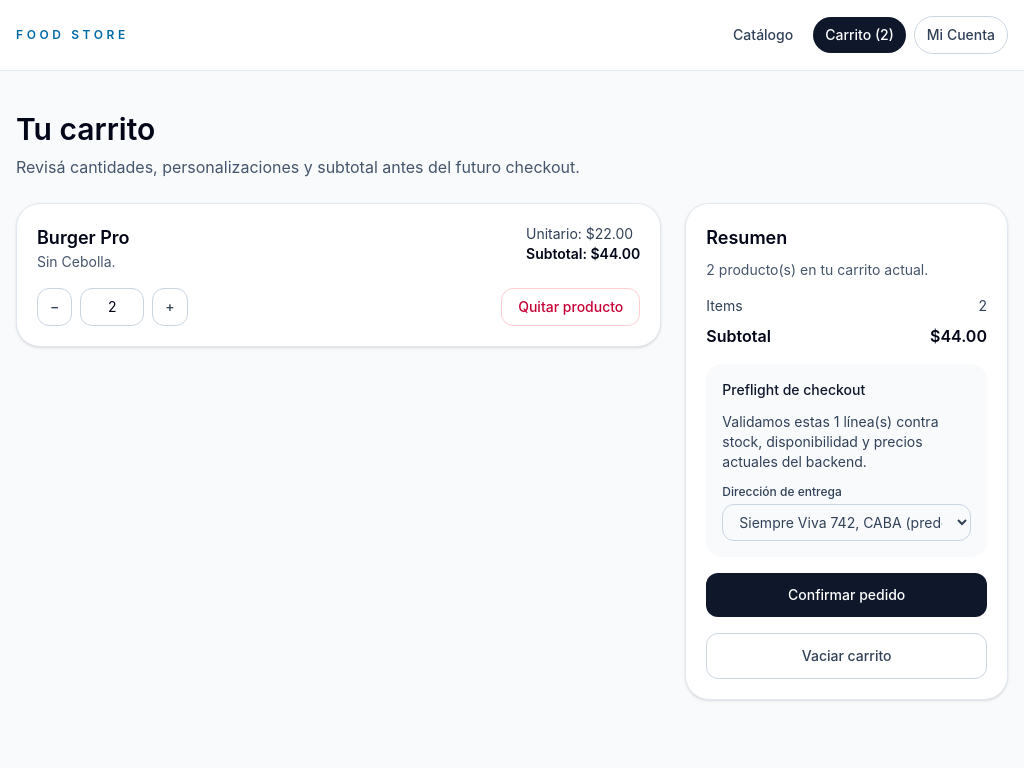
Test: CartPage › creates the order, initializes payment and confirms redirect feedback for authenticated users
Click the button "Confirmar pedido". click: (847, 595)
box: [706,573,987,617]
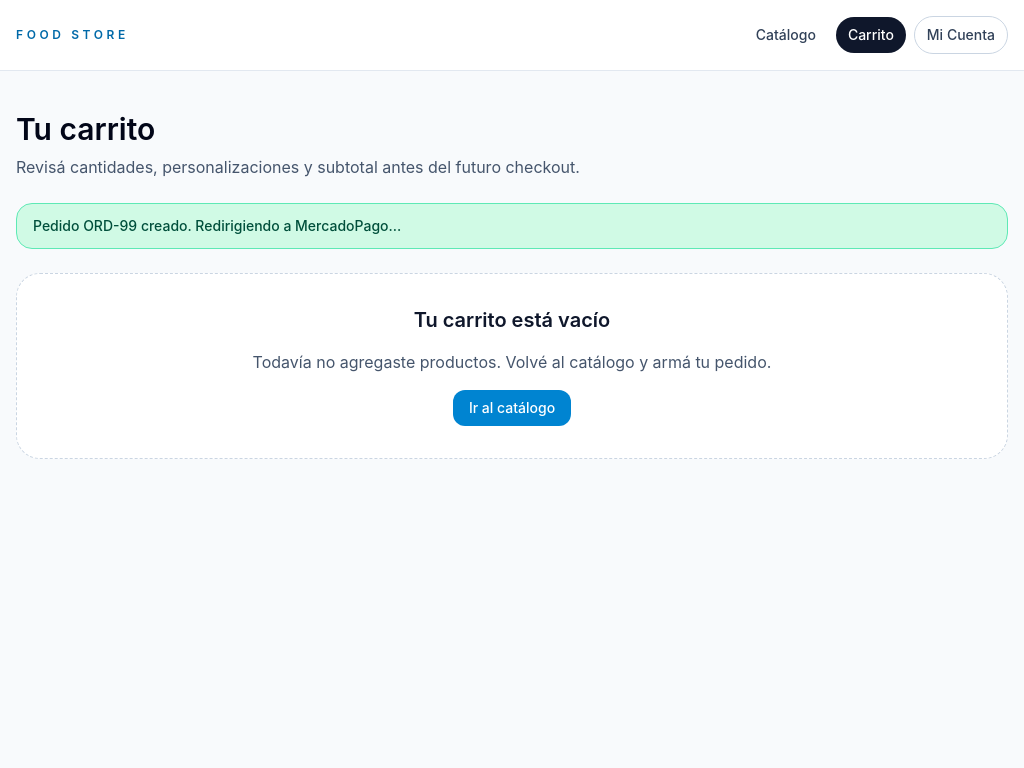
Expected: the message reads "Pedido ORD-99 creado. Redirigiendo a MercadoPago...", [33,217,401,234]
